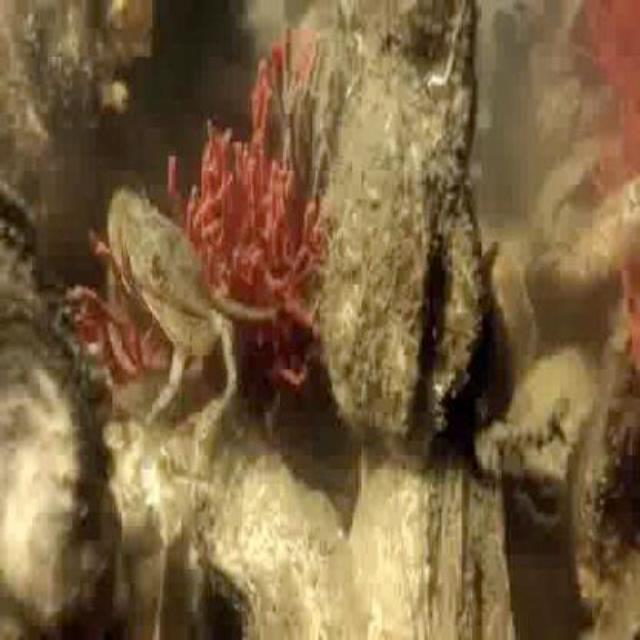Oyster-Closed: (0, 251, 121, 638), (0, 188, 39, 260)
Oyster-Open: (327, 0, 479, 443)
